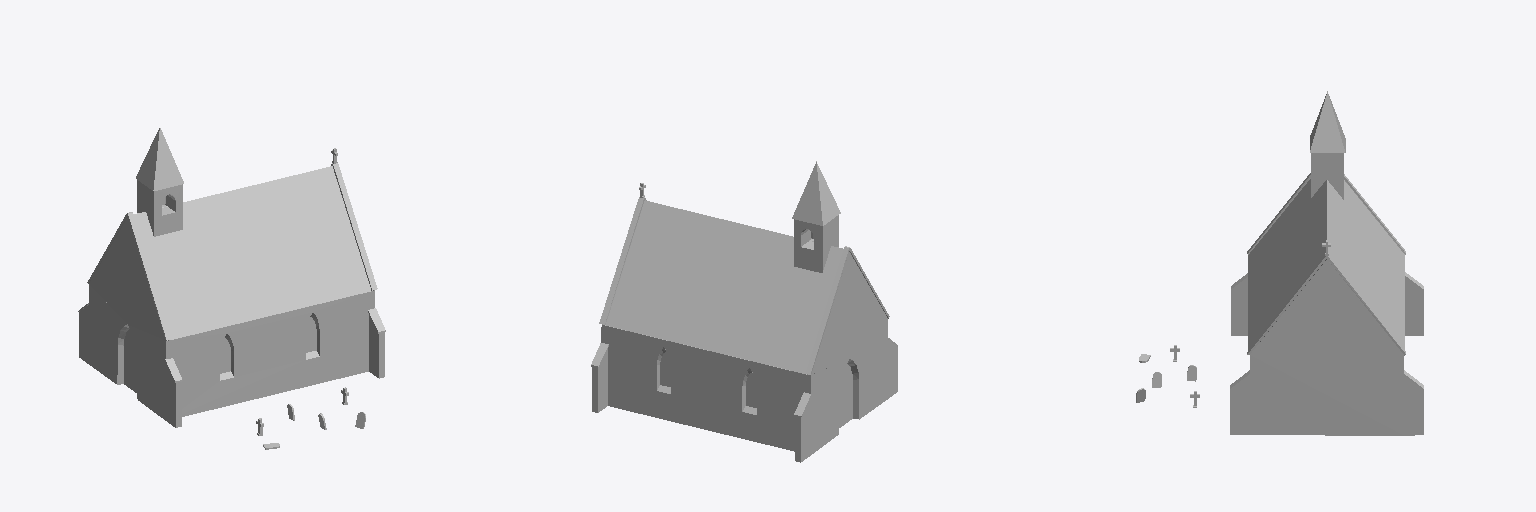
The model's file is church_v_.obj.
The picture shows the model from 3 angles: view 1: azimuth 30°, elevation 25°; view 2: azimuth 150°, elevation 25°; view 3: azimuth 270°, elevation 25°; orthographic projection.
Parts seen in each view (by area): view 1: church_v_3; view 2: church_v_3; view 3: church_v_3.
Part boxes in pixels (x1,y1,x2,y2): church_v_3: (78,128,385,449); church_v_3: (591,161,897,462); church_v_3: (1136,91,1423,435).
Size of the model in its own units: 5.79 by 6.79 by 6.84.